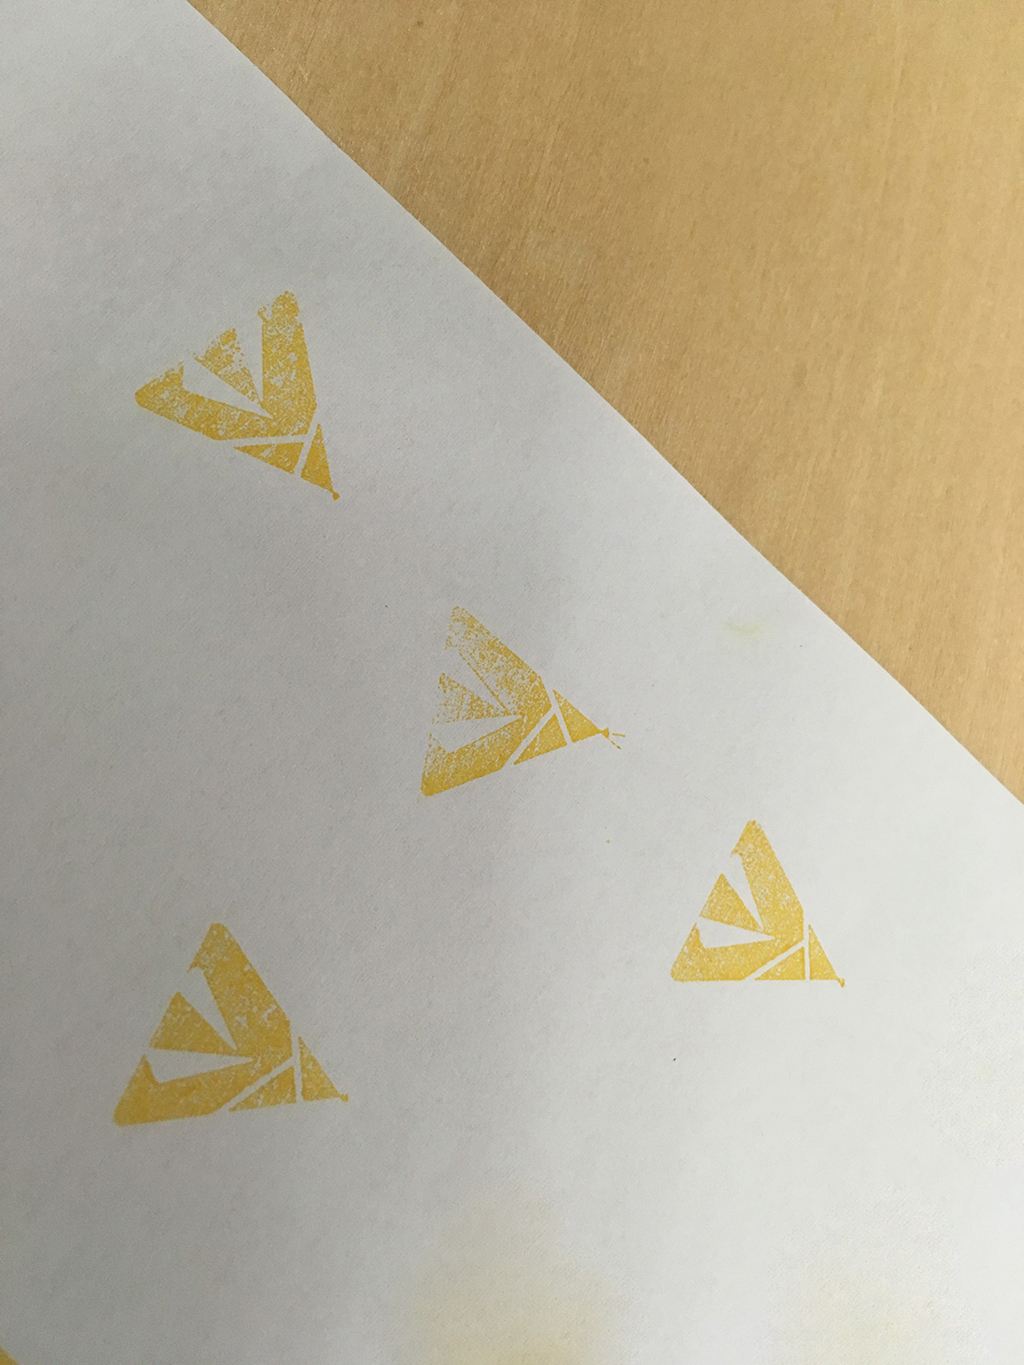tent: (94, 918, 370, 1143), (105, 278, 360, 506), (404, 588, 641, 821), (655, 806, 859, 1001)
